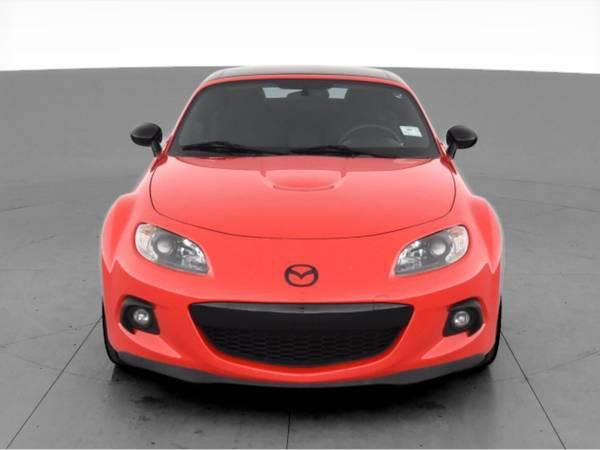Front_Bumper: (358, 241, 505, 382), (101, 252, 226, 377)
Front_Windshield: (163, 73, 438, 153)
Grille: (184, 273, 419, 385)
Hood: (101, 151, 502, 284)
Left_Headlight: (391, 224, 468, 275)
Left_Mirror: (444, 125, 480, 159)
Right_Headlight: (134, 221, 209, 275)
Right_Mirror: (130, 122, 165, 153)
Roof: (198, 64, 411, 93)
